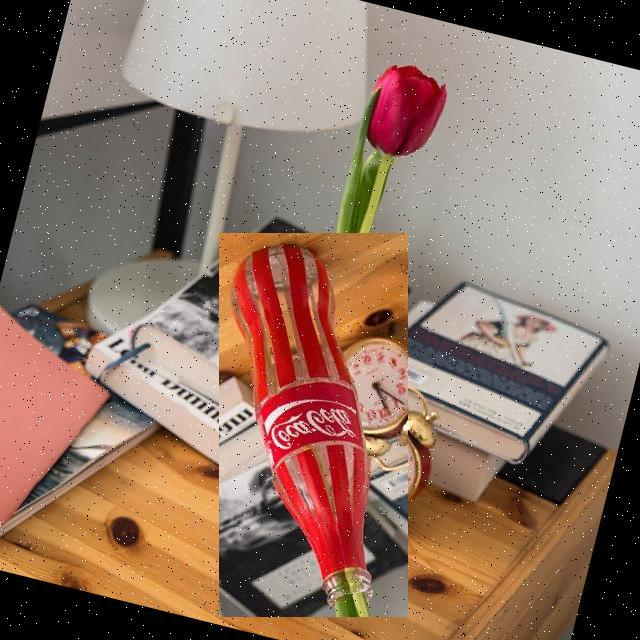coca-cola: (219, 233, 408, 617)
